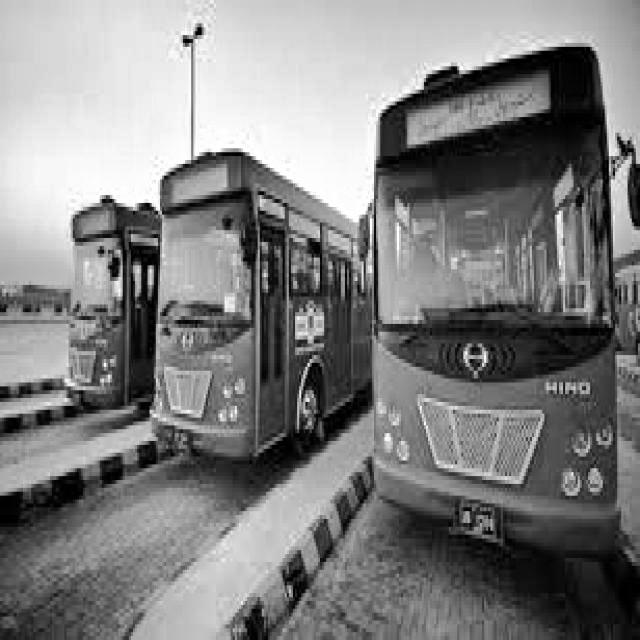Bus: (352, 10, 640, 583), (146, 133, 377, 496), (53, 168, 148, 424)
